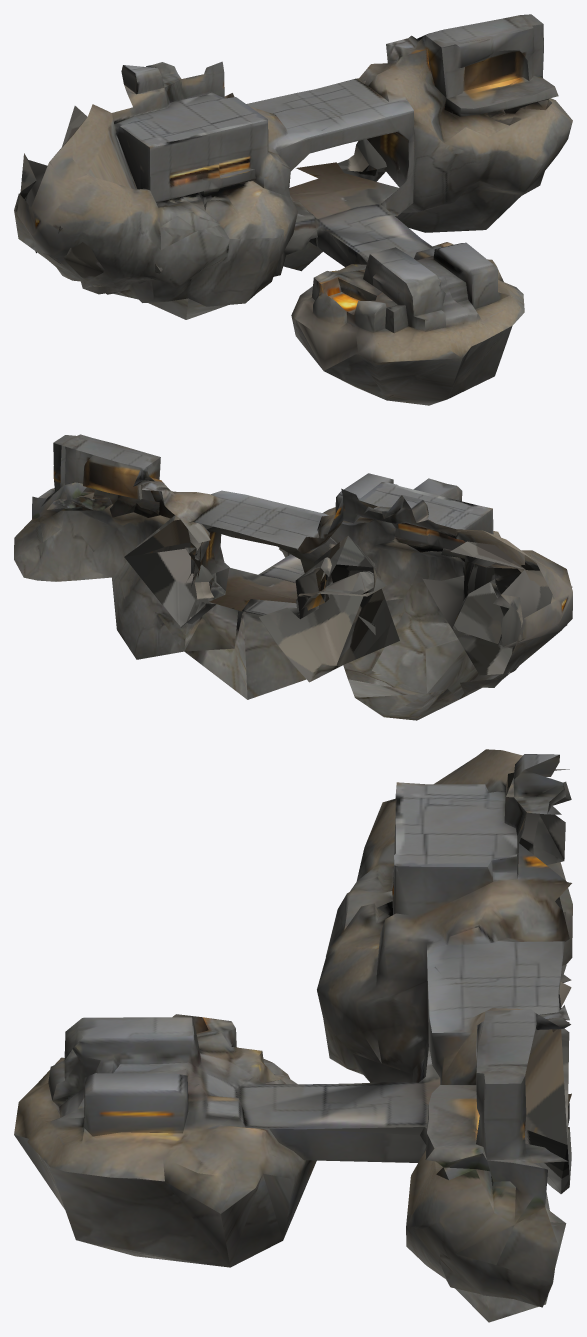
Rendered from bldg_mine_tunnel_front.glb.
The picture shows the model from 3 angles, top to bottom: view 1: azimuth 30°, elevation 25°; view 2: azimuth 150°, elevation 25°; view 3: azimuth 270°, elevation 25°; orthographic projection. The views are drawn at different scales.
Parts seen in each view (by area): view 1: polymsh_detached; view 2: polymsh_detached; view 3: polymsh_detached.
Boxes of the visible parts, left/top/right/bottom form: polymsh_detached: left=14, top=14, right=572, bottom=405; polymsh_detached: left=14, top=434, right=572, bottom=720; polymsh_detached: left=14, top=749, right=572, bottom=1322.
Bounding box in the file's own units: 1.83 × 0.8655 × 1.12.
1 material, 1 textured.
